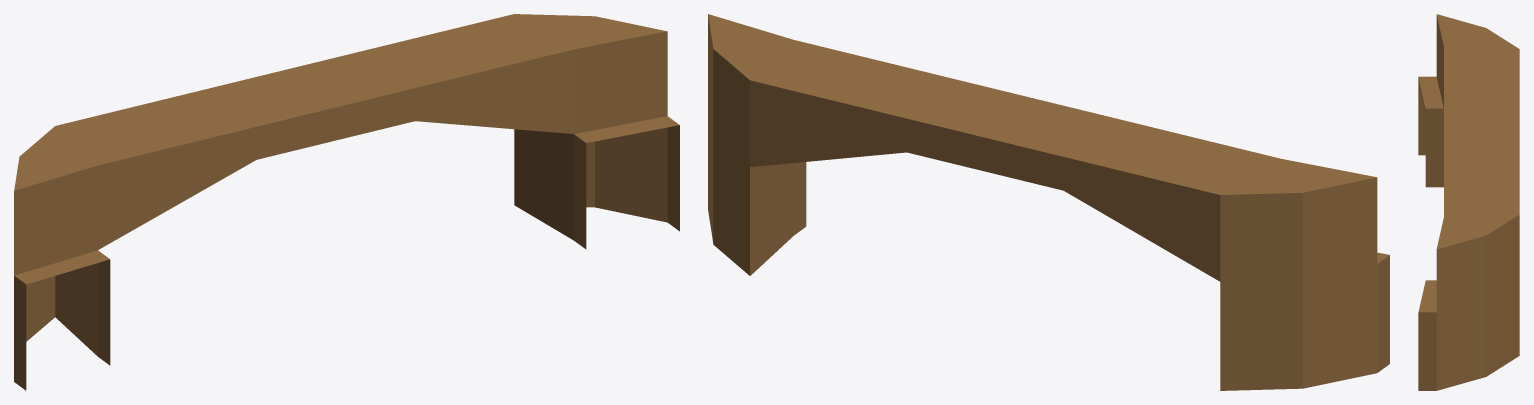
Rendered from stone_slinger_barrel(multishot).fbx.
3 views of the same model, side by side, from view 1: azimuth 30°, elevation 25°; view 2: azimuth 150°, elevation 25°; view 3: azimuth 270°, elevation 25° (orthographic). The views are drawn at different scales.
Parts seen in each view (by area): view 1: barrel_visual.001; view 2: barrel_visual.001; view 3: barrel_visual.001.
Part boxes in pixels (x1,y1,x2,y2): barrel_visual.001: [14, 14, 679, 390]; barrel_visual.001: [708, 14, 1389, 390]; barrel_visual.001: [1418, 14, 1519, 390].
Bounding box in the file's own units: 99.02 × 27.69 × 17.95.
1 material, 1 textured.
